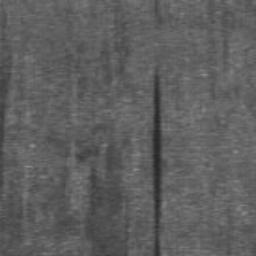Scratches: (153, 67, 160, 256)
